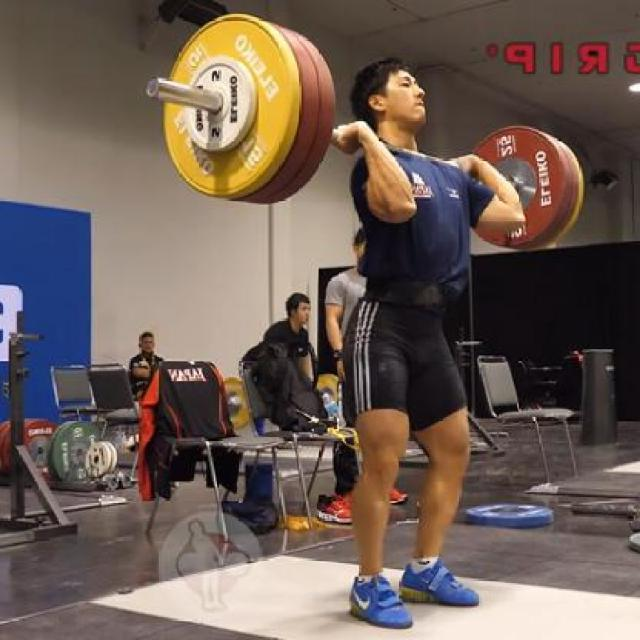Barbell: (143, 72, 163, 101)
